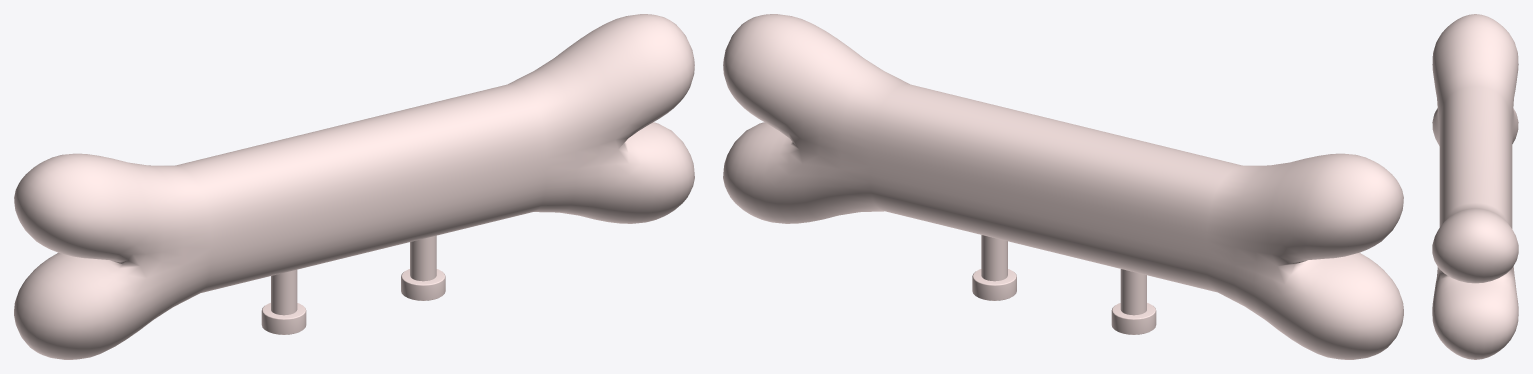
File: Store_11_Big_Bone_Sign_1.glb
The picture shows the model from 3 angles, left to right: view 1: azimuth 30°, elevation 25°; view 2: azimuth 150°, elevation 25°; view 3: azimuth 270°, elevation 25°; orthographic projection. The views are drawn at different scales.
Visible parts, largest first — view 1: Store_11_Big_Bone_Sign_1; view 2: Store_11_Big_Bone_Sign_1; view 3: Store_11_Big_Bone_Sign_1.
Part boxes in pixels (left/top/right/bottom): Store_11_Big_Bone_Sign_1: left=14, top=14, right=694, bottom=359; Store_11_Big_Bone_Sign_1: left=723, top=14, right=1403, bottom=359; Store_11_Big_Bone_Sign_1: left=1432, top=14, right=1518, bottom=359.
Size of the model in its own units: 9.92 by 3.13 by 1.58.
Materials: 1 (1 with a texture image).
